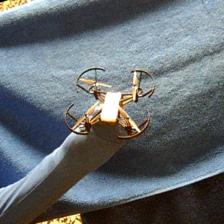drone: (64, 66, 156, 140)
